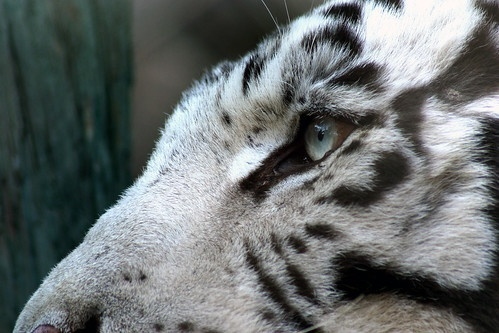tigre: (14, 1, 498, 331)
